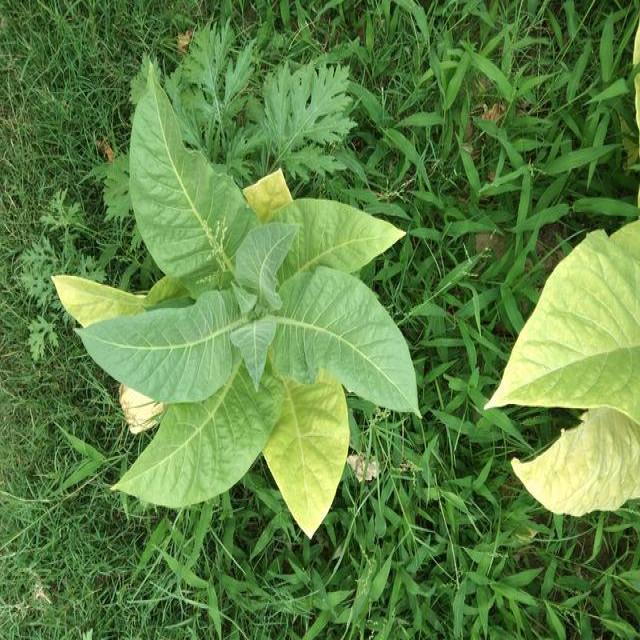crop: (49, 66, 432, 544)
